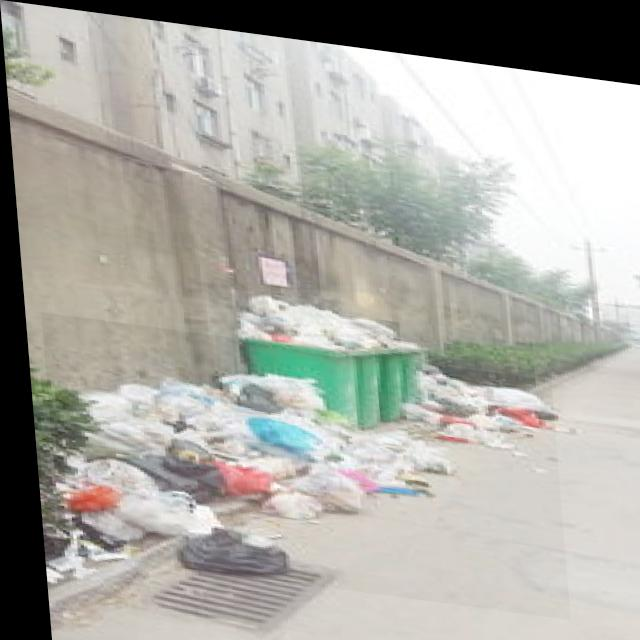garbage: (36, 312, 562, 605)
overflow: (227, 283, 351, 415), (344, 302, 378, 420), (368, 309, 401, 413)
